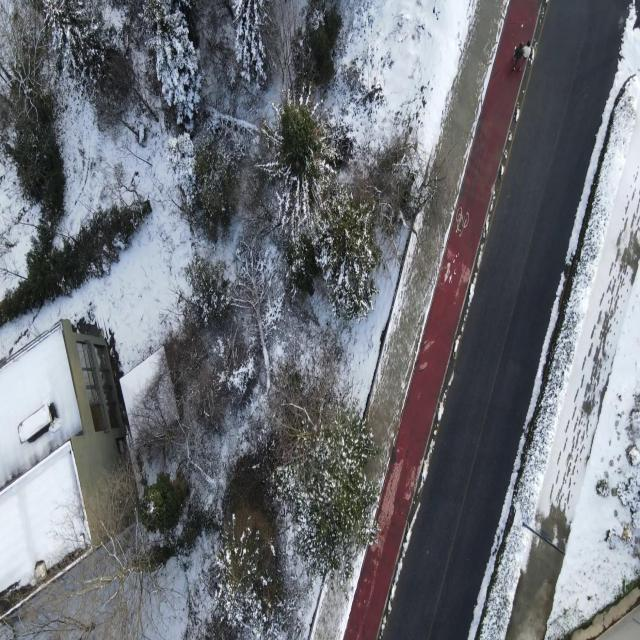p3rson: (519, 40, 532, 70), (513, 41, 524, 70)
